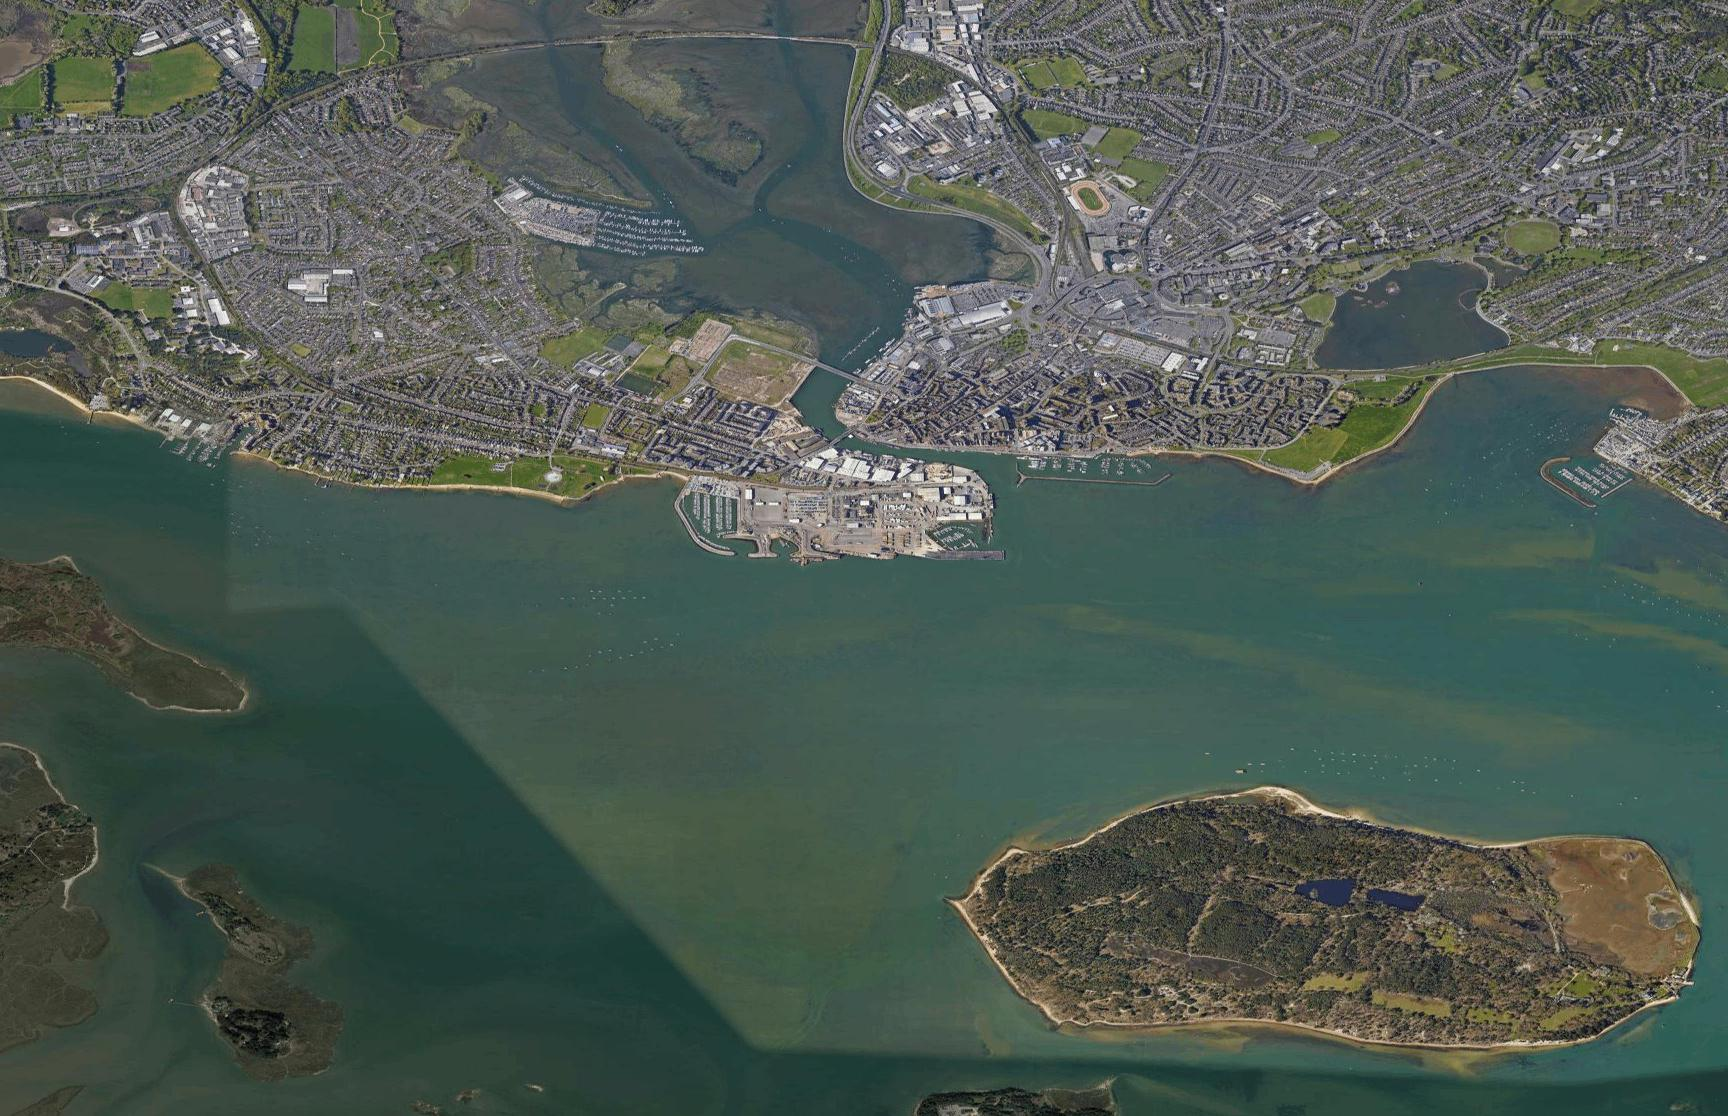bridge: (814, 359, 858, 380)
harbor: (669, 445, 1144, 592), (1539, 448, 1634, 511), (155, 431, 228, 471)
industrial: (893, 277, 1021, 348)
